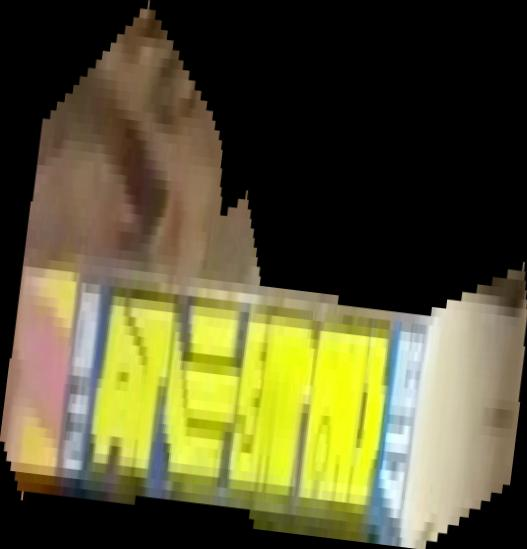flat: (1, 1, 527, 549)
